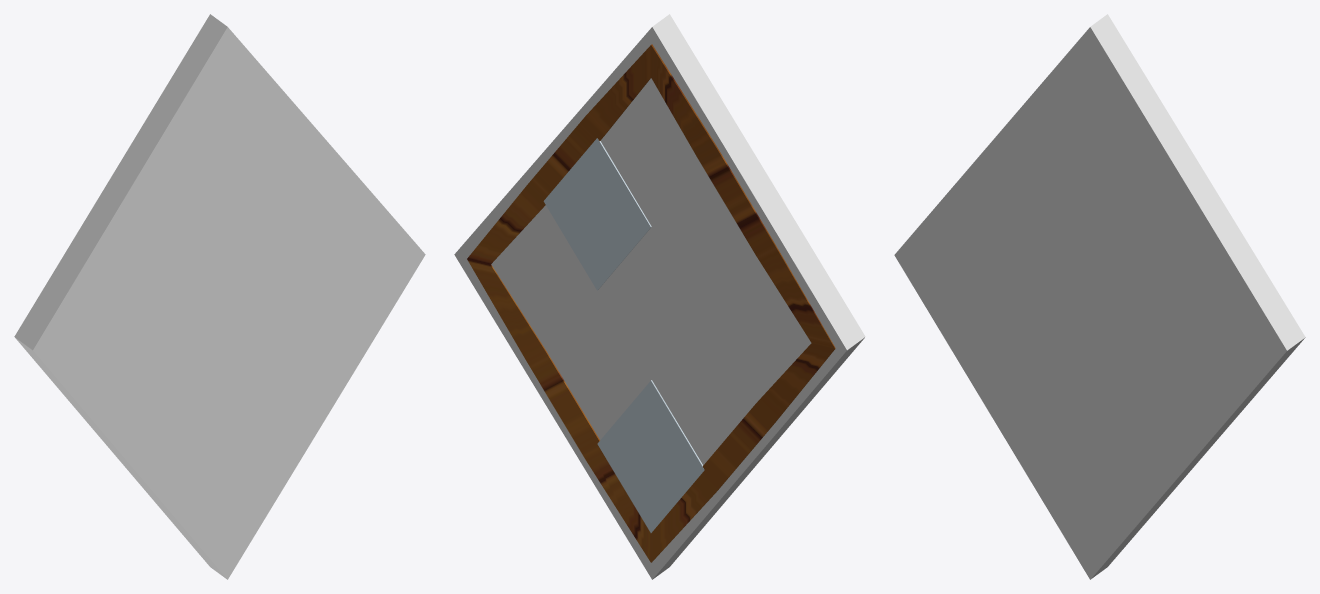
The model's file is DirectionMirror.fbx.
3 views of the same model, side by side, from view 1: azimuth 30°, elevation 25°; view 2: azimuth 150°, elevation 25°; view 3: azimuth 330°, elevation 25° (orthographic).
Visible parts, largest first — view 1: Cube.002; view 2: Cube.002, Cube.001, Cube; view 3: Cube.002.
Boxes of the visible parts, x1=… form: Cube.002: x1=14, y1=14, x2=425, y2=579; Cube.002: x1=454, y1=14, x2=865, y2=579; Cube.001: x1=467, y1=44, x2=835, y2=562; Cube: x1=543, y1=138, x2=704, y2=532; Cube.002: x1=894, y1=14, x2=1305, y2=579.
Bounding box in the file's own units: 675 × 909 × 57.24.
Materials: 3 (1 with a texture image).
